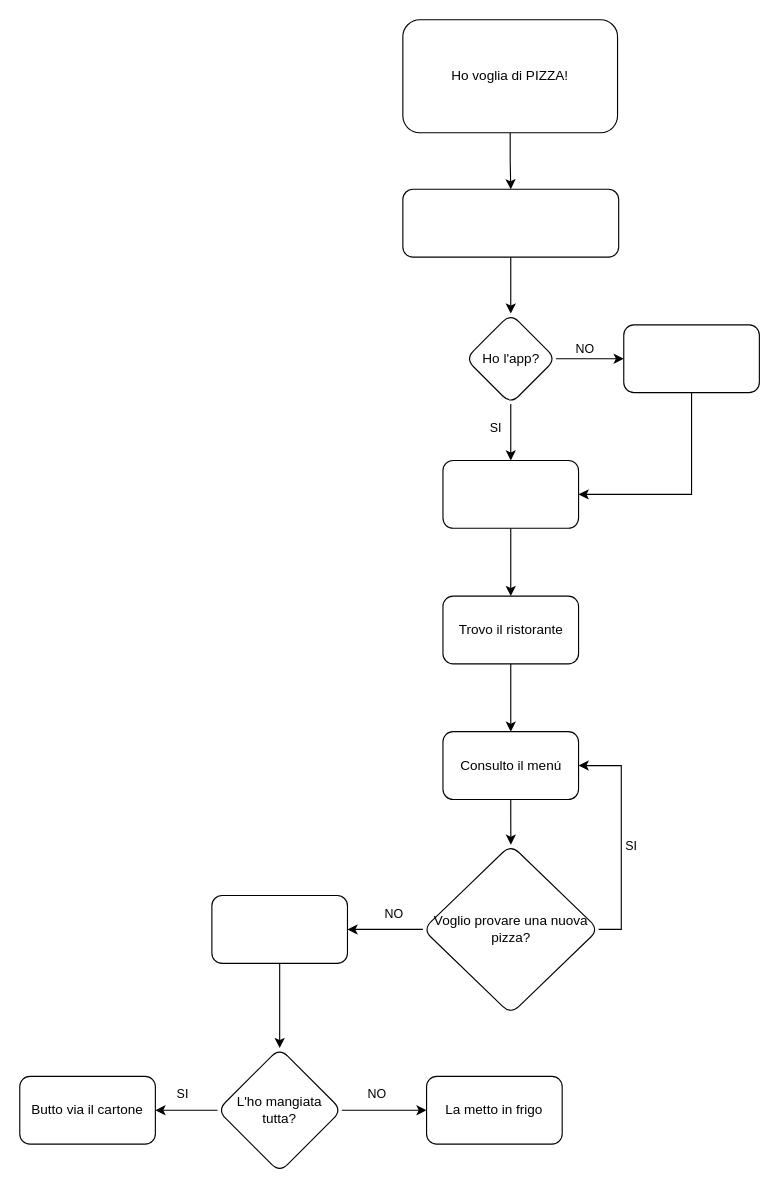
This 780x1192 diagram has some shape labels left out. The centre of each missing label's shape, as x and y in pixels:
Apro l'app: point 510,493
La scarico dallo store: point 691,358
Ordino la solita Prosciutto e Funghi: point 279,928
Prendo il telefono: point 510,222
